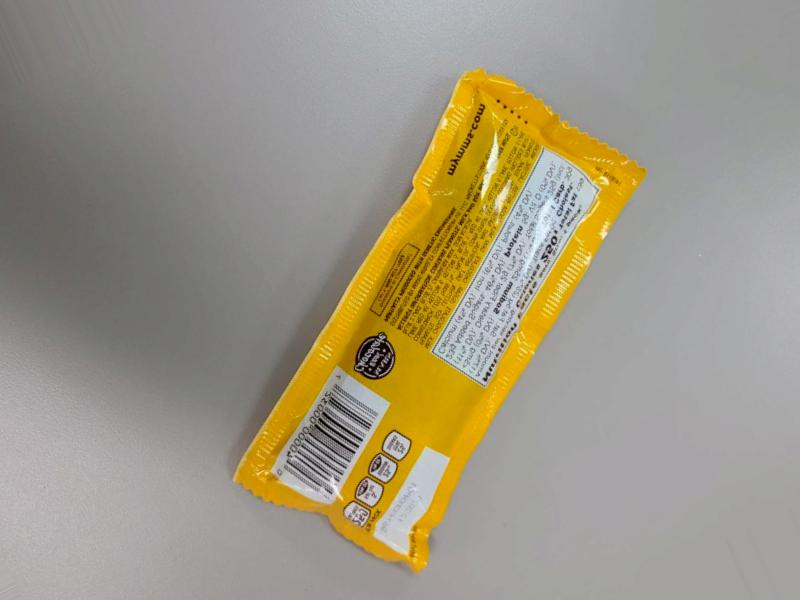m&m: (331, 136, 674, 600)
